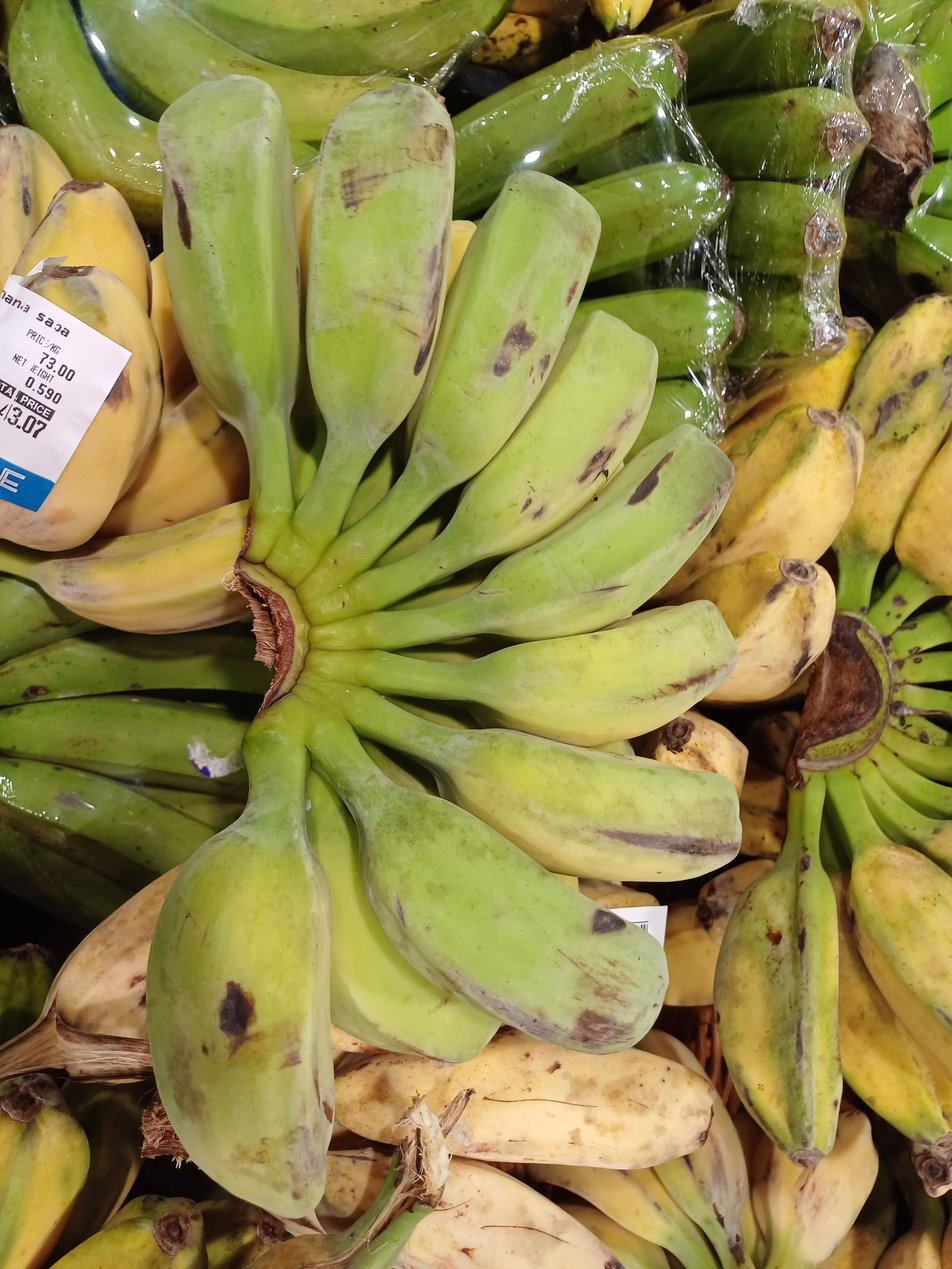ripe: (639, 312, 874, 703)
underripe: (146, 75, 743, 1220), (714, 821, 952, 1166)
